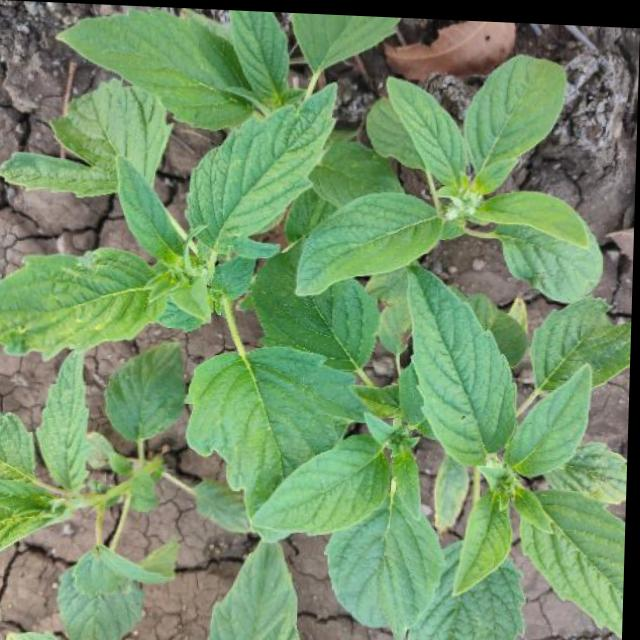crop: (0, 5, 640, 630)
